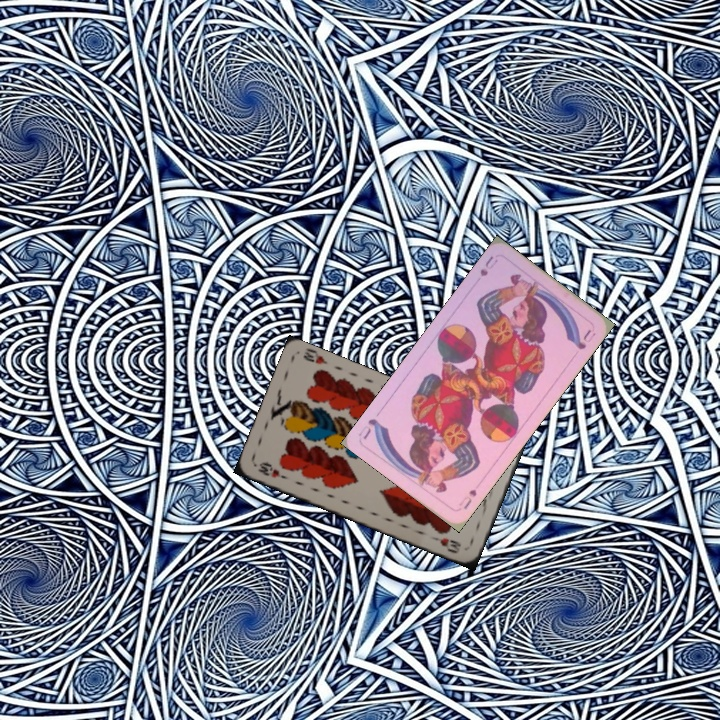H10: (253, 458, 290, 482)
SU: (476, 251, 501, 279), (455, 484, 479, 512)
